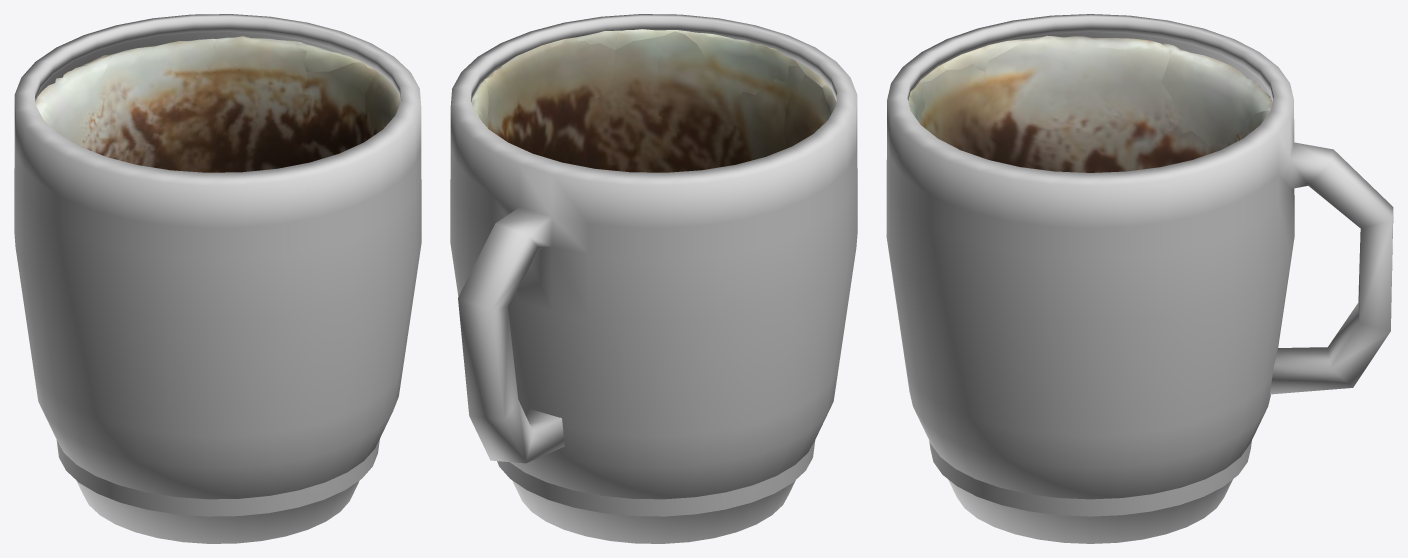
Rendered from coffe.fbx.
3 views of the same model, side by side, from view 1: azimuth 30°, elevation 25°; view 2: azimuth 150°, elevation 25°; view 3: azimuth 270°, elevation 25° (orthographic).
Visible parts, largest first — view 1: Cylinder, Mesh_0.001; view 2: Cylinder, Mesh_0.001; view 3: Cylinder, Mesh_0.001.
Part boxes in pixels (x1=…): Cylinder: x1=14, y1=14, x2=421, y2=543; Mesh_0.001: x1=35, y1=36, x2=400, y2=172; Cylinder: x1=450, y1=14, x2=857, y2=543; Mesh_0.001: x1=471, y1=29, x2=836, y2=172; Cylinder: x1=886, y1=14, x2=1393, y2=543; Mesh_0.001: x1=908, y1=35, x2=1272, y2=172.
Size of the model in its own units: 5.94 by 6.27 by 7.37.
